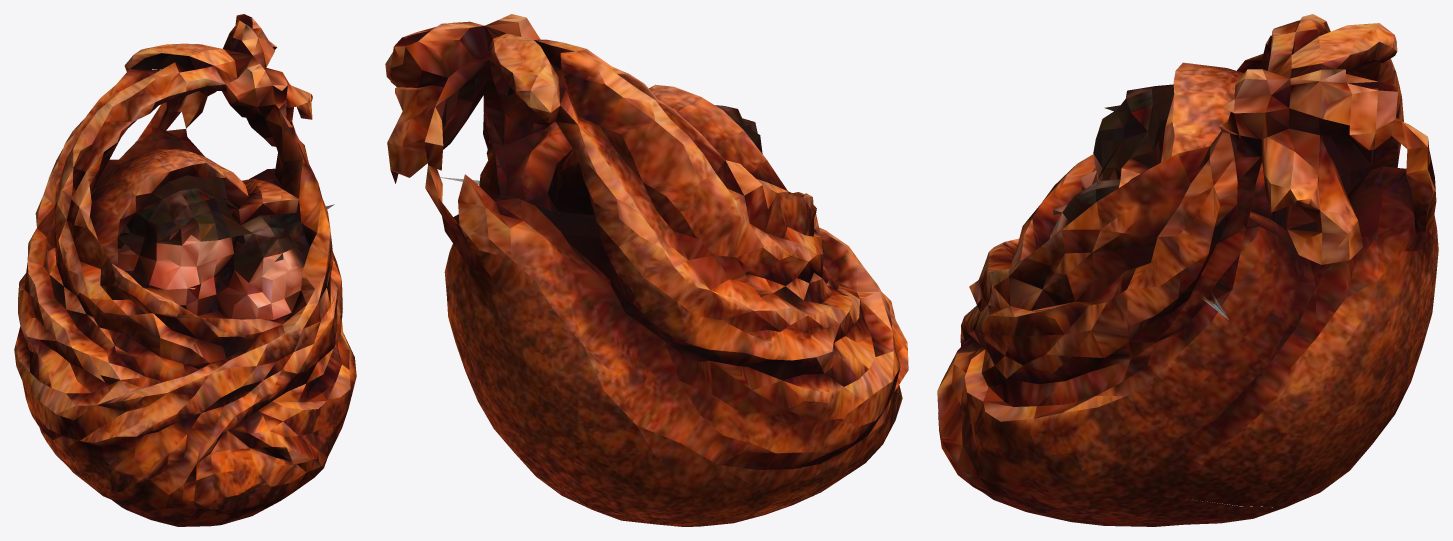
Rendered from wewe-gendongan.glb.
The picture shows the model from 3 angles, left to right: view 1: azimuth 30°, elevation 25°; view 2: azimuth 150°, elevation 25°; view 3: azimuth 270°, elevation 25°; orthographic projection. The views are drawn at different scales.
Visible parts, largest first — view 1: wewe-gendongan; view 2: wewe-gendongan; view 3: wewe-gendongan.
Boxes of the visible parts, bbox=[...] form: wewe-gendongan: bbox=[14, 14, 356, 526]; wewe-gendongan: bbox=[385, 14, 908, 526]; wewe-gendongan: bbox=[937, 14, 1438, 526].
Size of the model in its own units: 0.8593 by 0.9995 by 0.8535.
1 material, 1 textured.
